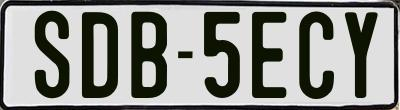5: (204, 12, 242, 101)
B: (129, 9, 165, 98)
C: (296, 8, 336, 96)
D: (82, 9, 124, 98)
E: (252, 12, 288, 101)
S: (33, 9, 67, 99)
Y: (344, 12, 382, 104)
